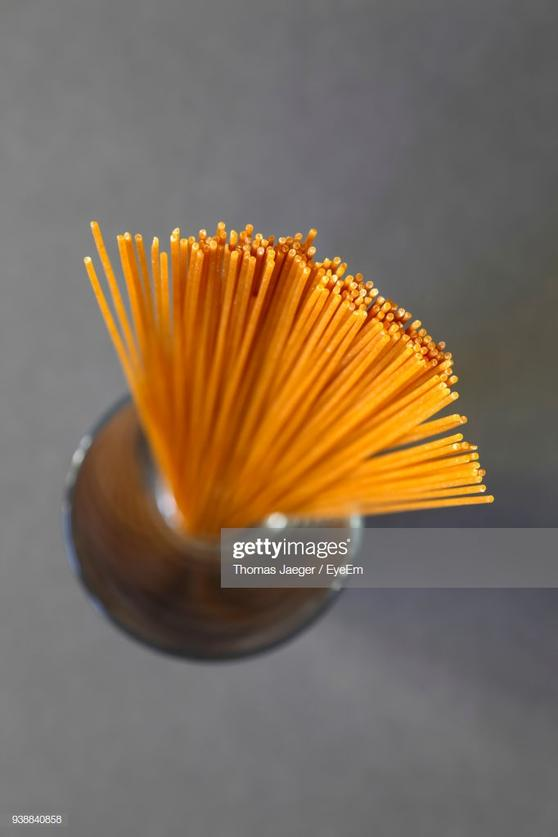spaghetti: (68, 206, 514, 552)
